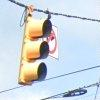traffic lights: (17, 9, 52, 89)
